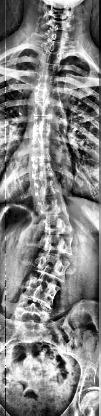Vertebrae: (15, 276, 63, 304), (26, 252, 74, 277), (17, 118, 65, 140), (34, 214, 78, 236), (22, 176, 70, 196), (29, 195, 74, 215), (18, 129, 60, 149), (19, 145, 59, 164), (34, 236, 76, 254), (20, 162, 62, 180), (21, 103, 62, 119), (24, 89, 60, 105), (25, 76, 65, 90), (29, 64, 65, 78), (34, 51, 64, 65), (38, 39, 66, 53)
